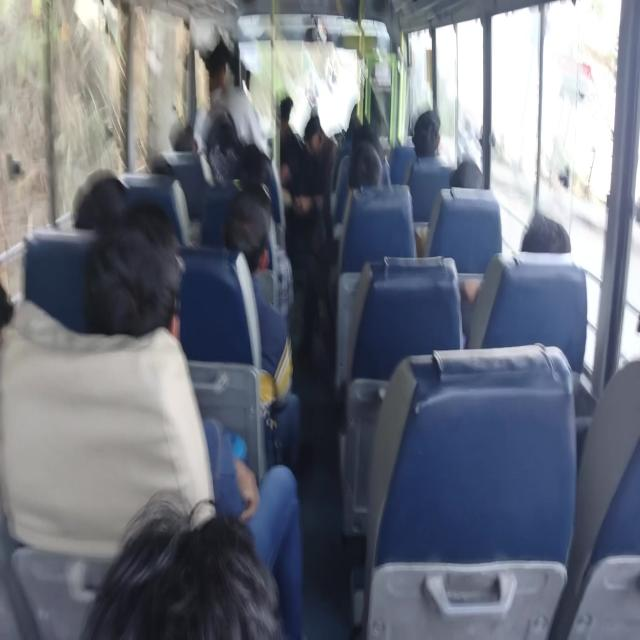person: (83, 479, 375, 640), (106, 228, 198, 337), (73, 167, 144, 248), (232, 174, 280, 274), (0, 257, 30, 385), (204, 43, 251, 123), (520, 196, 569, 260), (353, 150, 390, 202), (241, 136, 273, 188), (447, 159, 485, 200), (173, 118, 202, 166), (414, 113, 442, 156), (275, 90, 305, 129), (160, 141, 186, 183), (304, 113, 330, 149), (243, 66, 259, 82)
